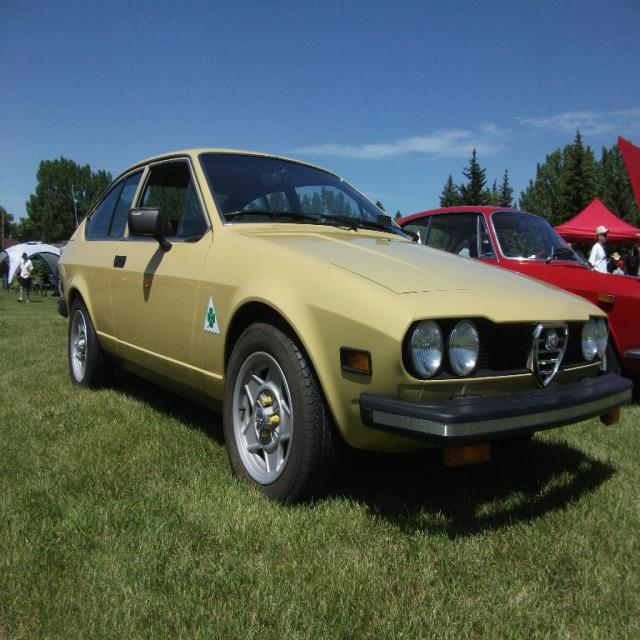car: (56, 146, 628, 494)
